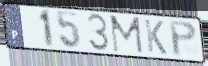1: (39, 8, 57, 49)
3: (85, 12, 111, 53)
5: (53, 11, 83, 51)
K: (143, 18, 168, 57)
M: (109, 14, 145, 55)
P: (167, 20, 199, 58)
